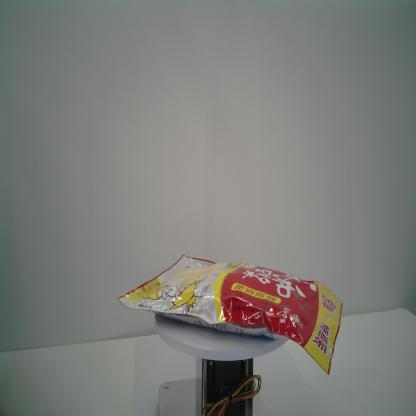Instant Drink: (115, 254, 345, 376)
